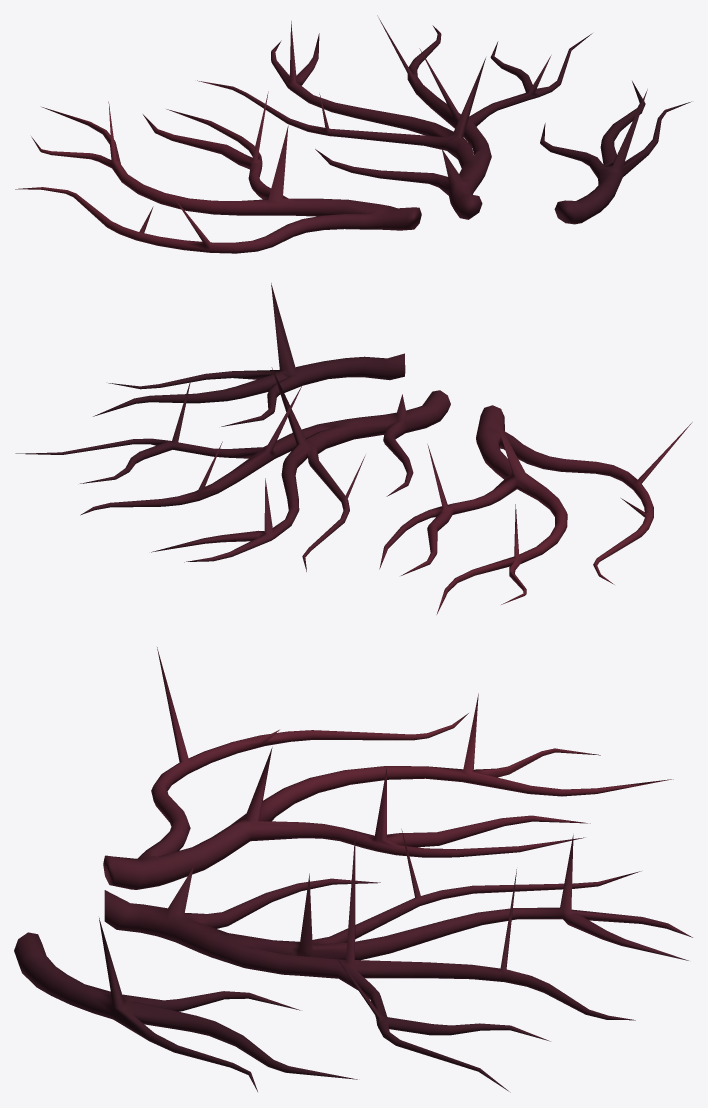
File: environment_evilplant_vines.fbx
3 views of the same model, one above another, from view 1: azimuth 30°, elevation 25°; view 2: azimuth 150°, elevation 25°; view 3: azimuth 270°, elevation 25° (orthographic). The views are drawn at different scales.
Parts seen in each view (by area): view 1: VINES; view 2: VINES; view 3: VINES.
Part boxes in pixels (x1,y1,x2,y2): VINES: (15,15,691,253); VINES: (15,283,692,614); VINES: (14,647,692,1092).
Bounding box in the file's own units: 917 × 141 × 689.
